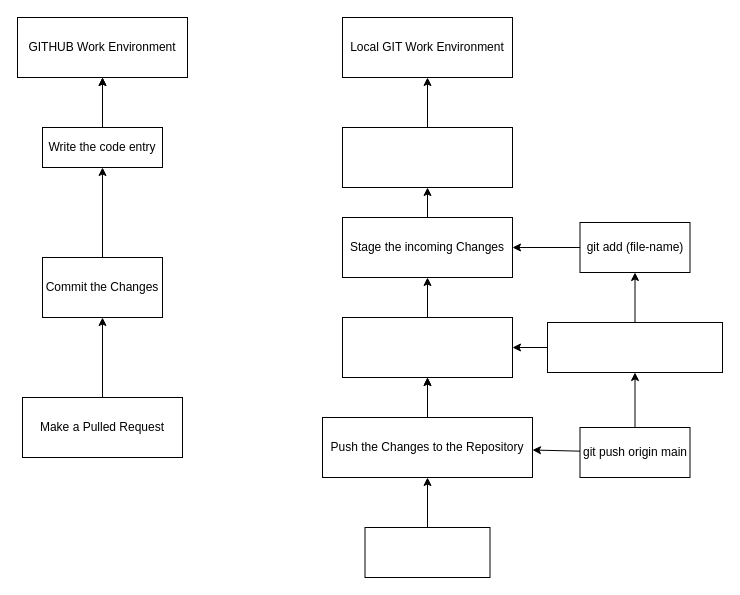
This 740x595 diagram has some shape labels left out. The shapes that lost their labels are listed below. From the top down, each one's centre as x and y in pixels, then its label:
point (427, 157): Write the code
point (427, 347): Commit the initial Changes
point (634, 347): git commit -m "insert why text"
point (427, 552): Make a Pull Request
